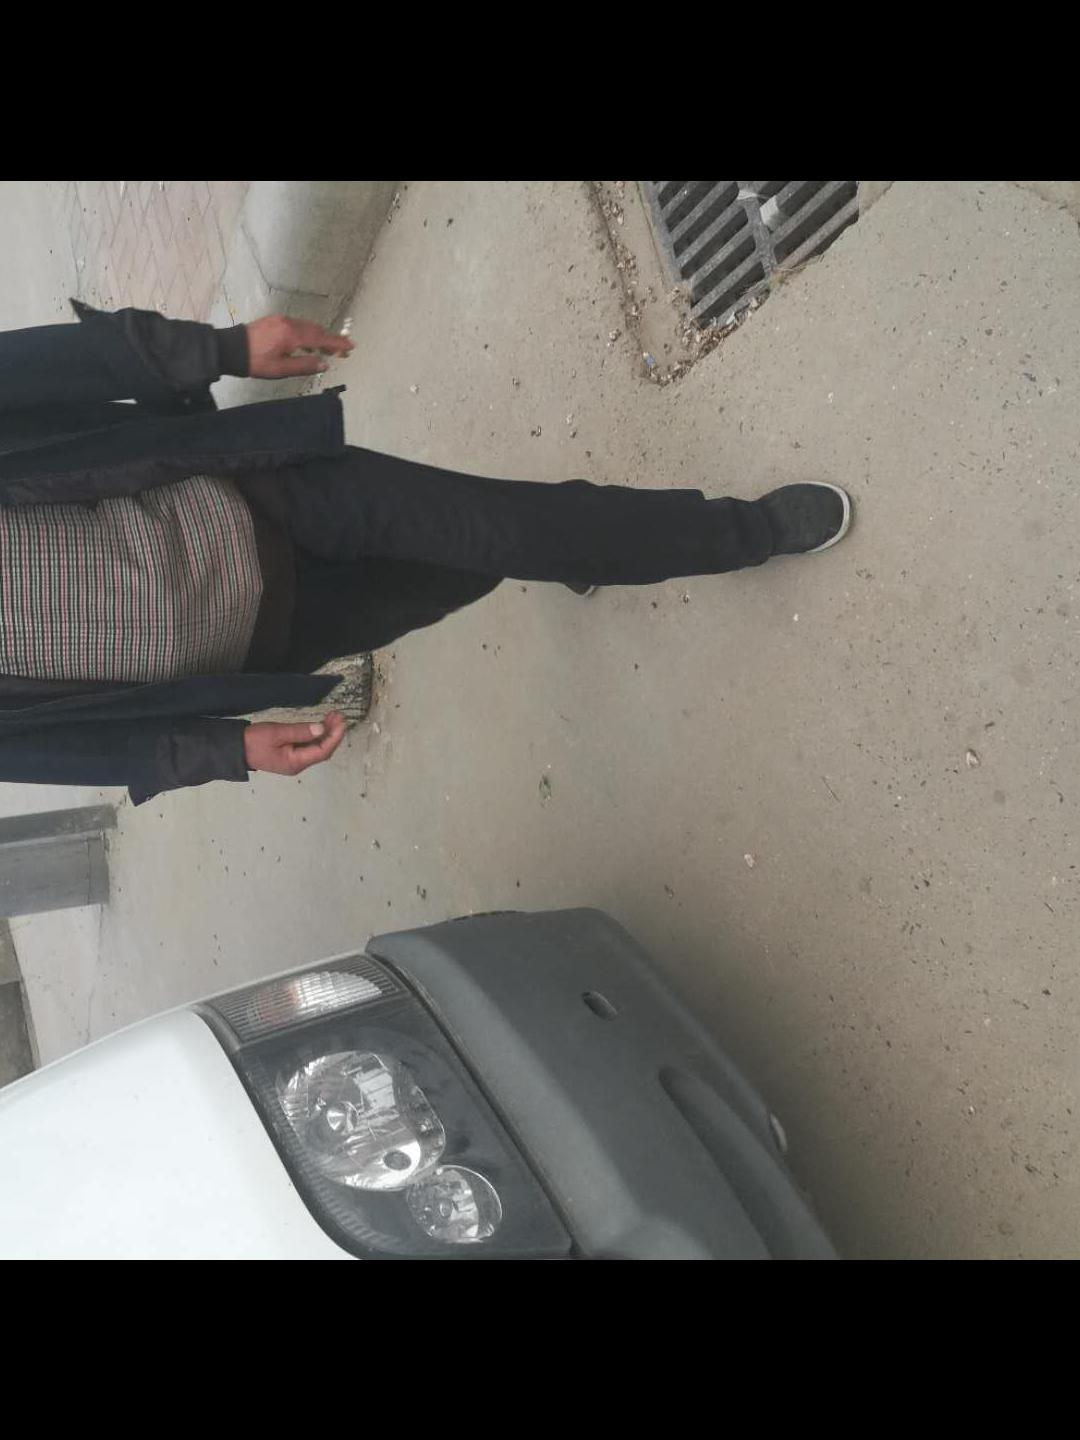Cigarette: (330, 317, 354, 361)
